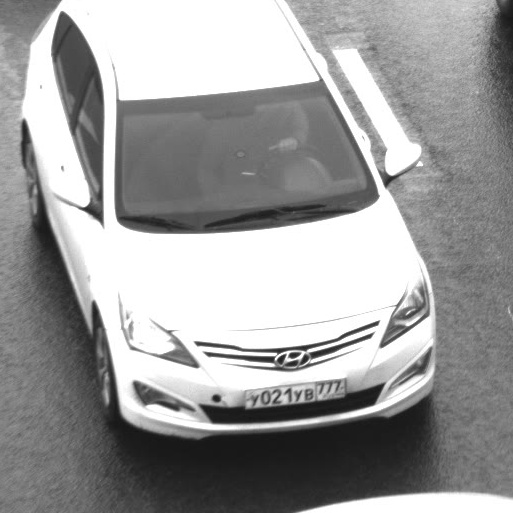plate: (233, 368, 353, 415)
